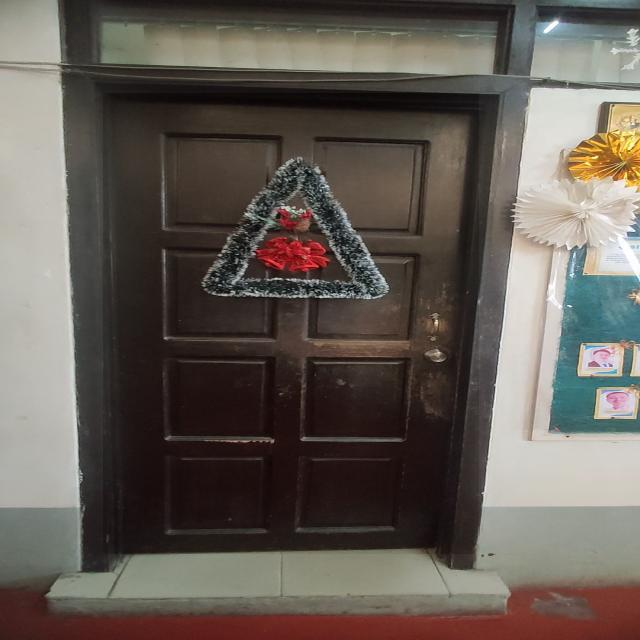door: (104, 94, 479, 554)
